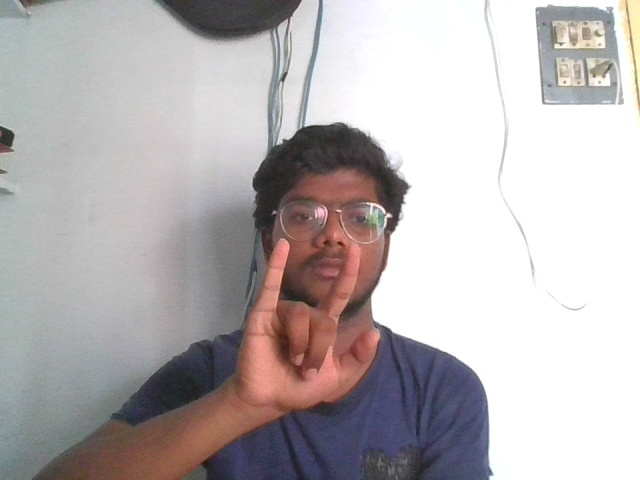IloveYou: (234, 229, 382, 410)
